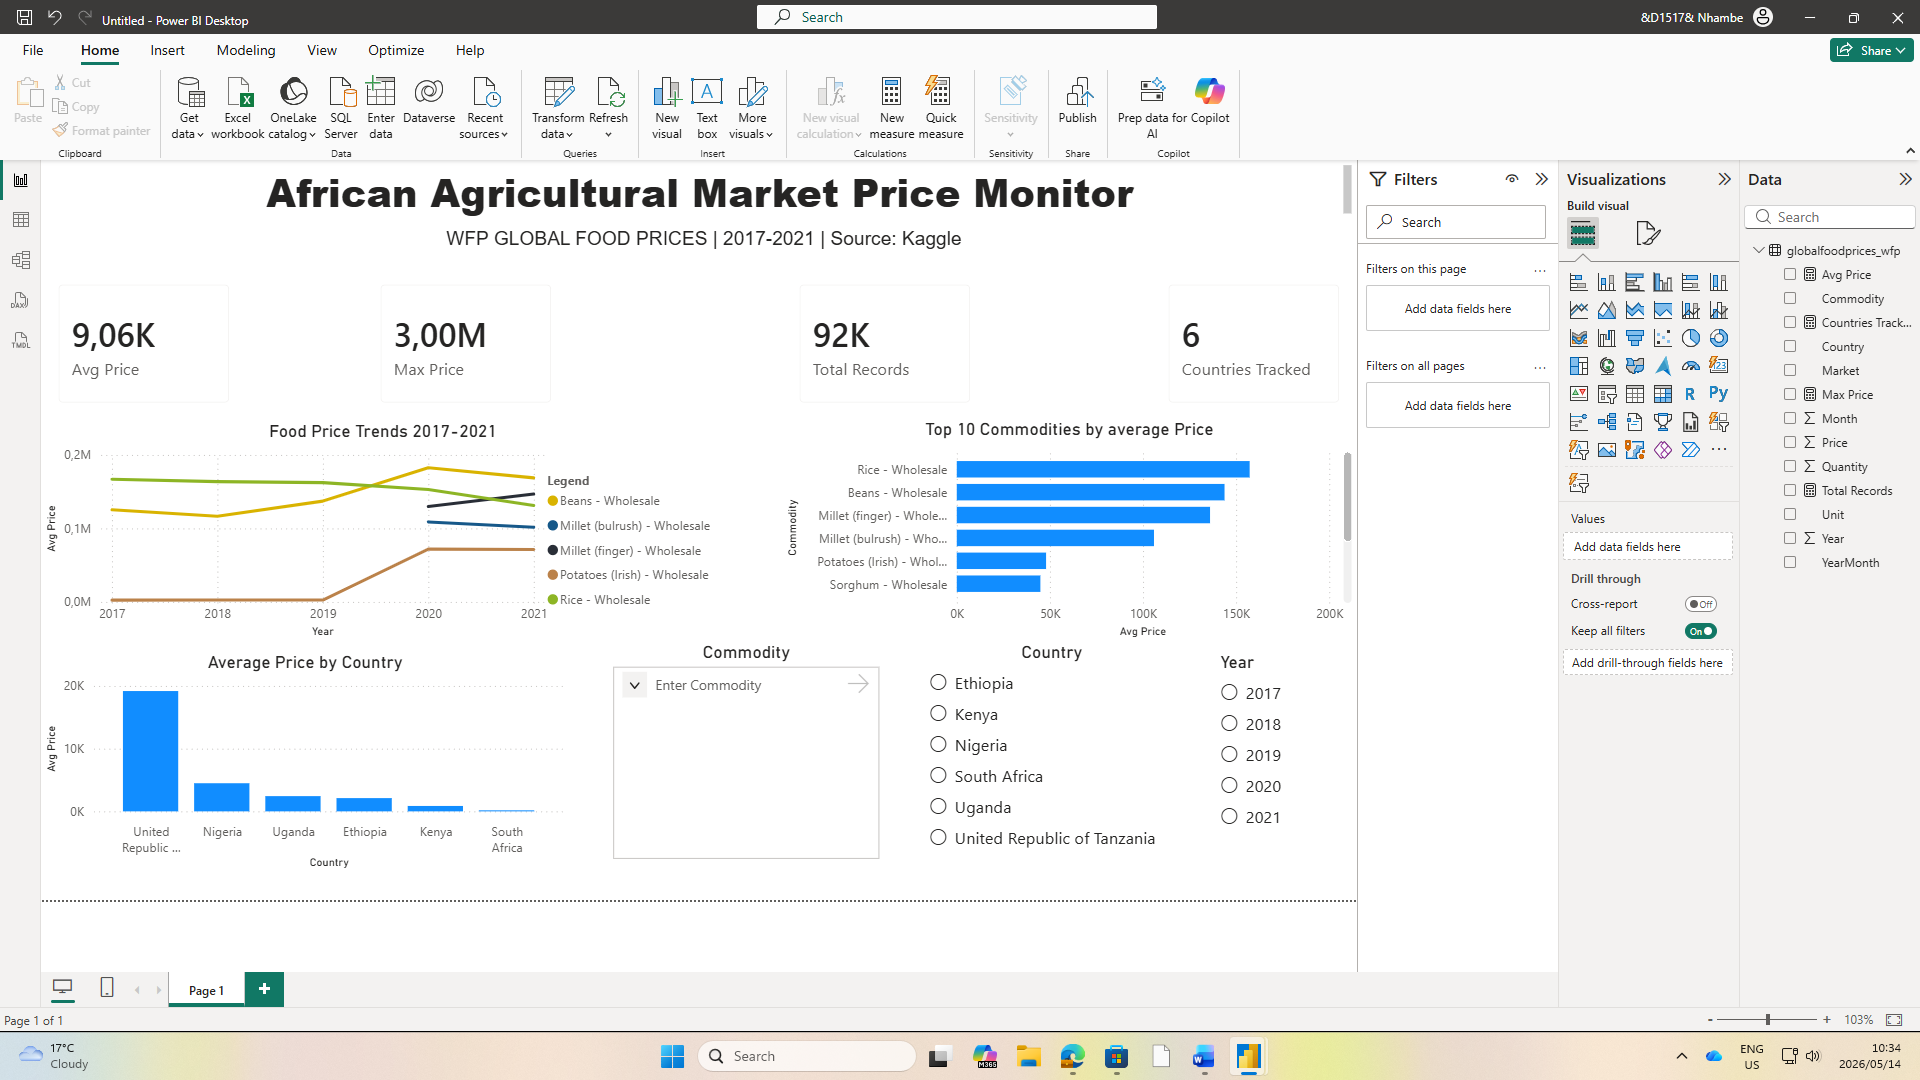

This screenshot's page, from the dashboard's own definition file:
{"tool":"powerbi","page":{"name":"Page 1","canvas":[1280,720],"ordinal":0},"visuals":[{"type":"textbox","box":[9.7,0,1270.3,60.3],"z":0},{"type":"textbox","box":[9.7,60.3,1270.3,43.8],"z":1000},{"type":"cardVisual","fields":{"Data":["globalfoodprices_wfp.Avg Price"]},"box":[0,104.1,200.4,149.8],"z":2000},{"type":"cardVisual","fields":{"Data":["globalfoodprices_wfp.Max Price"]},"box":[313.2,104.1,200.4,149.8],"z":3000},{"type":"cardVisual","fields":{"Data":["globalfoodprices_wfp.Countries Tracked"]},"box":[1079.6,104.1,200.4,149.8],"z":4000},{"type":"cardVisual","fields":{"Data":["globalfoodprices_wfp.Total Records"]},"box":[720.7,104.1,200.4,149.8],"z":5000},{"type":"lineChart","title":"Food Price Trends 2017-2021","fields":{"Category":["globalfoodprices_wfp.Year"],"Y":["globalfoodprices_wfp.Avg Price"],"Series":["globalfoodprices_wfp.Commodity"]},"box":[0,253.9,665.3,215],"z":6000},{"type":"clusteredBarChart","title":"Top 10 Commodities by average Price","fields":{"Category":["globalfoodprices_wfp.Commodity"],"Y":["globalfoodprices_wfp.Avg Price"]},"box":[720.7,251.9,559.3,216.9],"z":7000},{"type":"clusteredColumnChart","title":"Average Price by Country","fields":{"Category":["globalfoodprices_wfp.Country"],"Y":["globalfoodprices_wfp.Avg Price"]},"box":[0,479,514,215],"z":8000},{"type":"listSlicer","fields":{"Values":["globalfoodprices_wfp.Year"]},"box":[1141.9,478.5,138.1,241.2],"z":9000},{"type":"listSlicer","fields":{"Values":["globalfoodprices_wfp.Country"]},"box":[858.8,468.8,249,250.9],"z":10000},{"type":"textSlicer","fields":{"Values":["globalfoodprices_wfp.Commodity"]},"box":[551.5,468.8,269.4,215.9],"z":11000}]}

Visuals, with their boxes on the page's 1280x720 design canvas (x1, y1, x2, y2). These are canvas units, not pixel positions in the 1920x1080 screenshot, which may show the page scaled, cropped or inside an application window:
textbox: region(10, 0, 1280, 60)
textbox: region(10, 60, 1280, 104)
cardVisual - globalfoodprices_wfp.Avg Price: region(0, 104, 200, 254)
cardVisual - globalfoodprices_wfp.Max Price: region(313, 104, 514, 254)
cardVisual - globalfoodprices_wfp.Countries Tracked: region(1080, 104, 1280, 254)
cardVisual - globalfoodprices_wfp.Total Records: region(721, 104, 921, 254)
"Food Price Trends 2017-2021" lineChart: region(0, 254, 665, 469)
"Top 10 Commodities by average Price" clusteredBarChart: region(721, 252, 1280, 469)
"Average Price by Country" clusteredColumnChart: region(0, 479, 514, 694)
listSlicer - globalfoodprices_wfp.Year: region(1142, 478, 1280, 720)
listSlicer - globalfoodprices_wfp.Country: region(859, 469, 1108, 720)
textSlicer - globalfoodprices_wfp.Commodity: region(552, 469, 821, 685)
